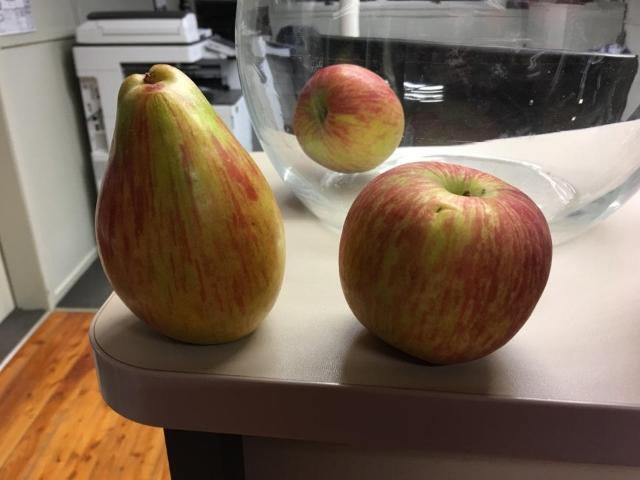Apples: (340, 163, 552, 363), (292, 64, 404, 174)
